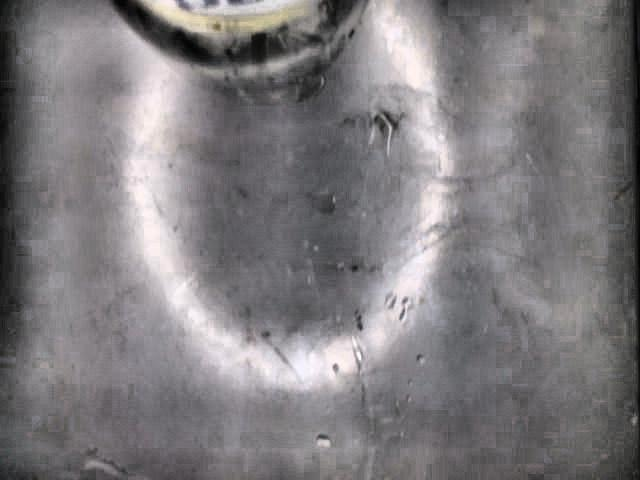Bottles: (114, 0, 373, 100)
